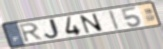4: (65, 15, 83, 37)
5: (120, 6, 143, 28)
I: (108, 9, 122, 31)
J: (43, 17, 63, 40)
N: (79, 13, 106, 35)
R: (19, 22, 46, 44)
